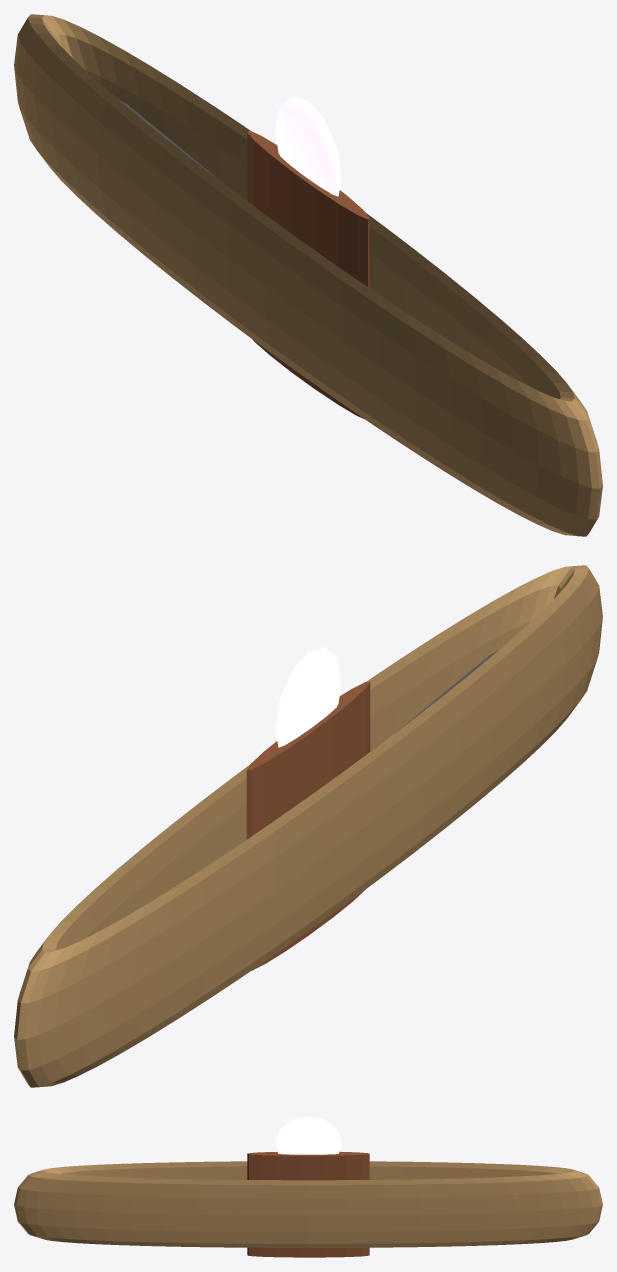
The model's file is SM_Keeper_Hittite_Rotor1m1.fbx.
3 renders of one model, top to bottom at view 1: azimuth 30°, elevation 25°; view 2: azimuth 150°, elevation 25°; view 3: azimuth 270°, elevation 25°, orthographic. The views are drawn at different scales.
Parts seen in each view (by area): view 1: SM_Keeper_Hittite_Rotor1m1; view 2: SM_Keeper_Hittite_Rotor1m1; view 3: SM_Keeper_Hittite_Rotor1m1.
Boxes of the visible parts, x1,y1,x2,y2 form: SM_Keeper_Hittite_Rotor1m1: (14,14,602,536); SM_Keeper_Hittite_Rotor1m1: (14,565,602,1087); SM_Keeper_Hittite_Rotor1m1: (14,1116,602,1257).
Bounding box in the file's own units: 2.23 × 6.83 × 26.25.
